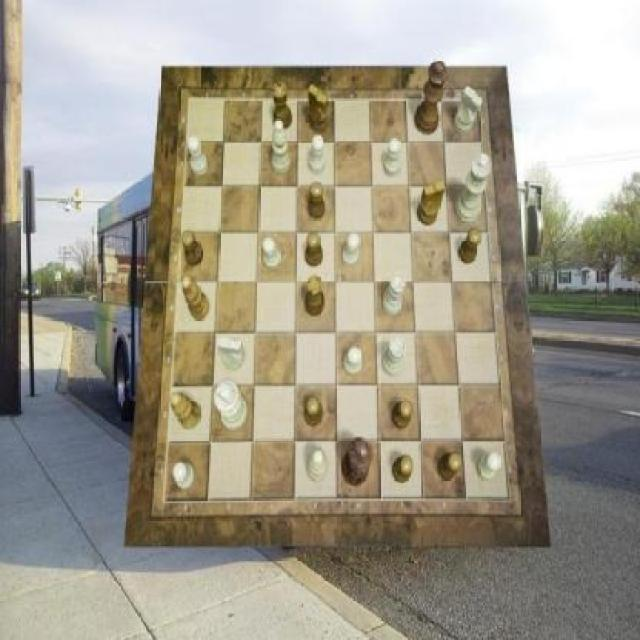bishop: (183, 275, 211, 321), (170, 392, 202, 430)
black-bishop: (341, 437, 374, 486)
black-king: (417, 180, 445, 225), (309, 84, 329, 134)
black-knight: (458, 229, 482, 264), (181, 230, 204, 266), (438, 452, 462, 480), (305, 232, 322, 267), (308, 182, 324, 219), (392, 455, 413, 483), (392, 400, 413, 428), (305, 397, 322, 428)
black-pawn: (414, 60, 448, 135)
black-queen: (274, 81, 294, 130), (306, 275, 326, 317)
black-rook: (272, 119, 292, 174), (306, 448, 329, 482)
white-bishop: (214, 380, 249, 432)
white-king: (454, 86, 483, 134), (218, 335, 244, 370)
white-knight: (188, 137, 208, 177), (384, 138, 402, 177), (174, 463, 197, 491), (477, 452, 500, 480), (310, 136, 326, 176), (262, 237, 280, 271), (342, 232, 359, 267), (343, 348, 362, 377)
white-pawn: (456, 153, 492, 224)
white-queen: (383, 274, 406, 316), (382, 337, 406, 377)
